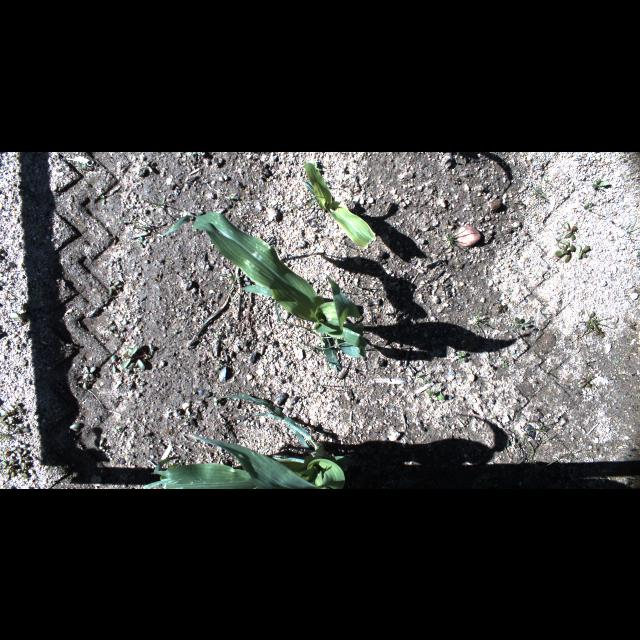crop: (162, 210, 370, 372), (142, 394, 350, 488), (300, 161, 376, 249)
weed: (274, 298, 332, 344), (288, 338, 348, 369), (516, 430, 558, 468), (121, 343, 153, 373), (218, 272, 240, 306), (142, 194, 166, 222), (441, 226, 467, 248), (580, 313, 608, 331), (414, 361, 436, 383), (474, 312, 491, 340), (215, 348, 228, 382), (555, 241, 575, 263), (532, 174, 548, 200), (626, 218, 640, 244), (0, 432, 10, 462), (563, 220, 577, 240), (555, 228, 569, 248), (61, 423, 79, 437), (108, 354, 120, 374), (130, 218, 150, 230), (592, 177, 612, 189), (74, 155, 90, 169), (82, 364, 96, 380), (428, 386, 444, 400), (514, 316, 532, 328), (14, 422, 32, 433), (0, 408, 14, 422), (576, 244, 590, 258), (108, 279, 120, 295), (540, 423, 550, 441), (17, 463, 28, 479), (8, 402, 22, 414), (17, 450, 29, 464), (584, 198, 598, 210), (577, 375, 591, 387), (128, 231, 148, 239), (10, 442, 26, 452), (78, 376, 90, 388), (584, 360, 596, 372), (568, 451, 582, 461), (1, 419, 13, 429), (0, 460, 12, 470), (142, 159, 152, 171), (5, 460, 13, 474), (9, 312, 21, 321), (110, 256, 120, 266), (497, 302, 507, 312), (455, 352, 465, 362), (582, 322, 592, 332), (594, 327, 604, 337), (510, 264, 522, 272), (98, 436, 104, 452), (10, 468, 18, 478), (311, 161, 319, 171), (544, 174, 552, 184), (628, 320, 636, 330), (588, 311, 596, 321), (616, 373, 628, 379), (66, 341, 74, 349), (138, 238, 146, 246), (618, 222, 628, 228), (546, 366, 552, 376), (99, 194, 105, 202), (501, 360, 507, 368), (114, 426, 120, 434), (10, 453, 16, 459), (634, 288, 640, 294), (612, 358, 620, 362), (457, 151, 459, 165), (623, 456, 629, 460), (214, 395, 216, 405), (188, 152, 196, 154), (226, 195, 234, 197), (526, 421, 534, 423)
